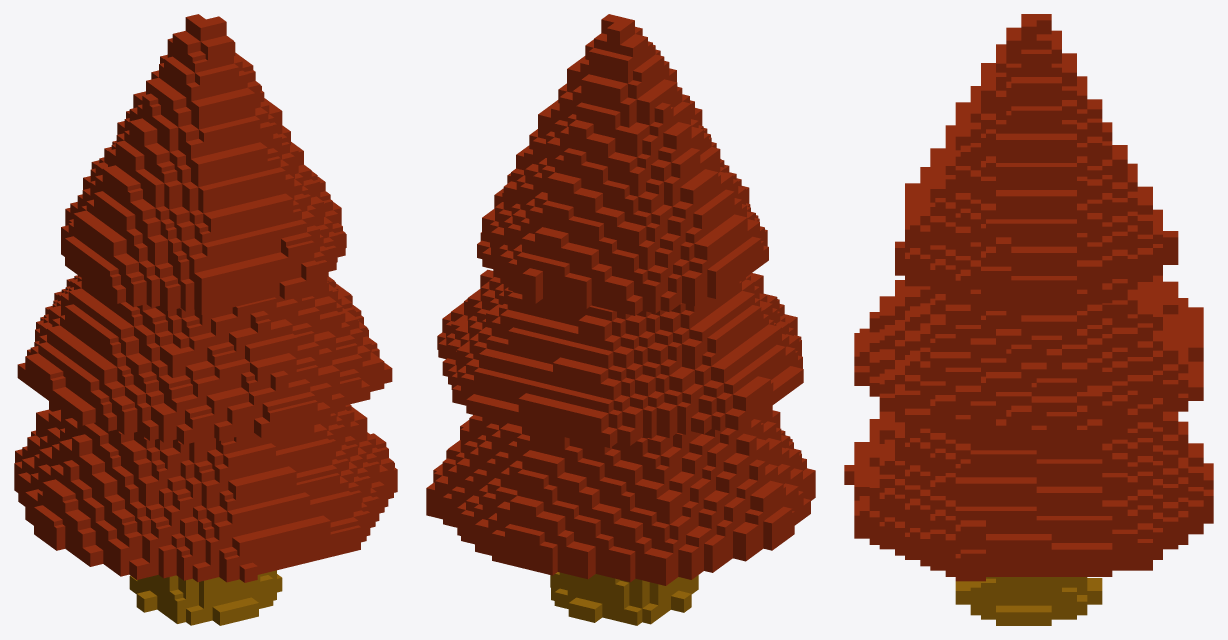
The model's file is TreeAutumn.obj.
The picture shows the model from 3 angles, left to right: view 1: azimuth 30°, elevation 25°; view 2: azimuth 150°, elevation 25°; view 3: azimuth 270°, elevation 25°; orthographic projection.
Parts seen in each view (by area): view 1: TreeAutumn; view 2: TreeAutumn; view 3: TreeAutumn.
Part boxes in pixels (<box>): TreeAutumn: <box>14,14,397,625</box>; TreeAutumn: <box>426,14,815,625</box>; TreeAutumn: <box>844,14,1213,625</box>.
Bounding box in the file's own units: 73 × 126 × 73.
